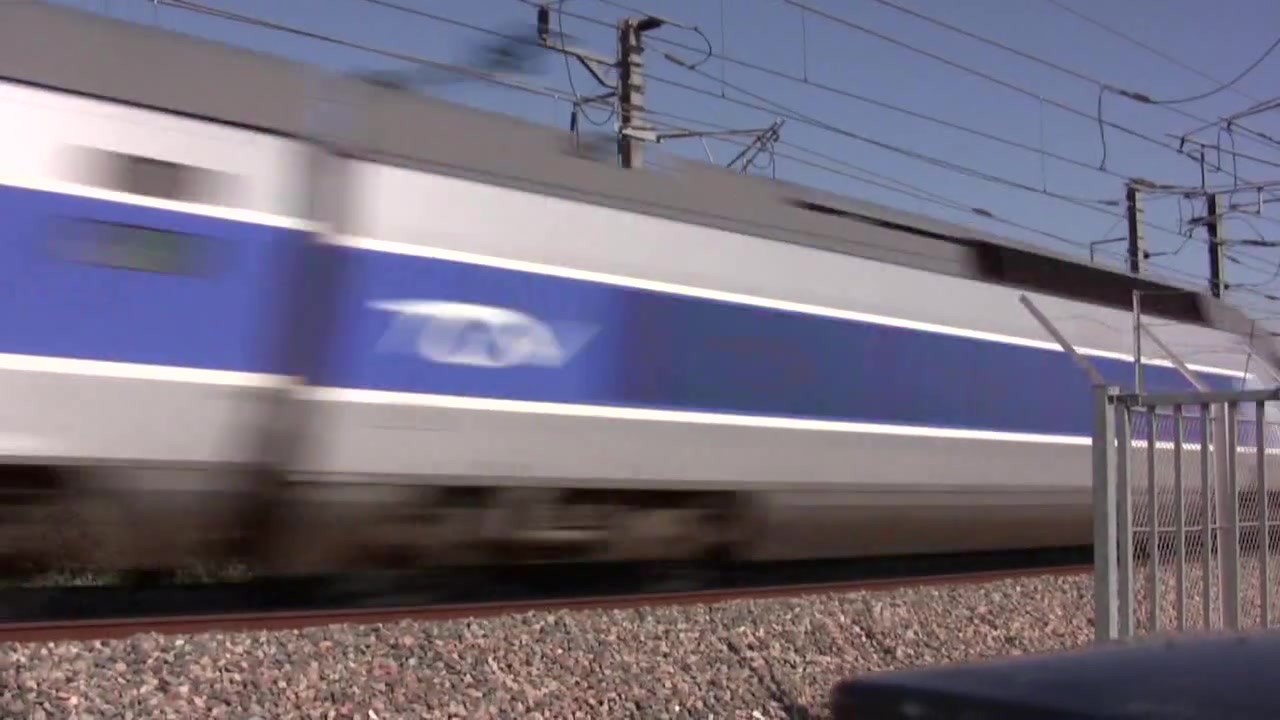train: (1, 1, 1280, 586)
